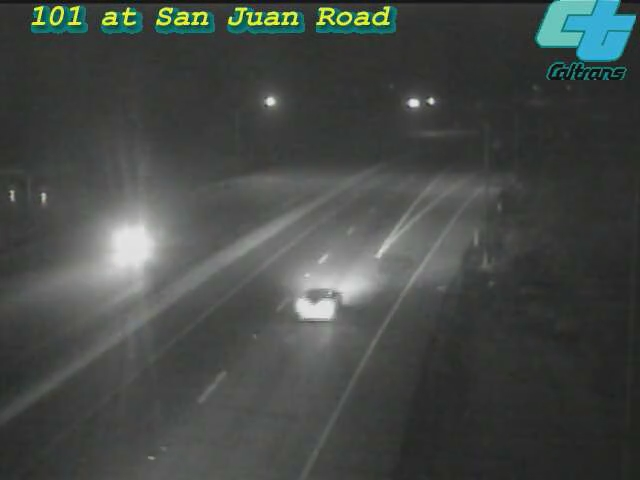vehicle: (86, 207, 166, 287), (273, 265, 353, 345)
